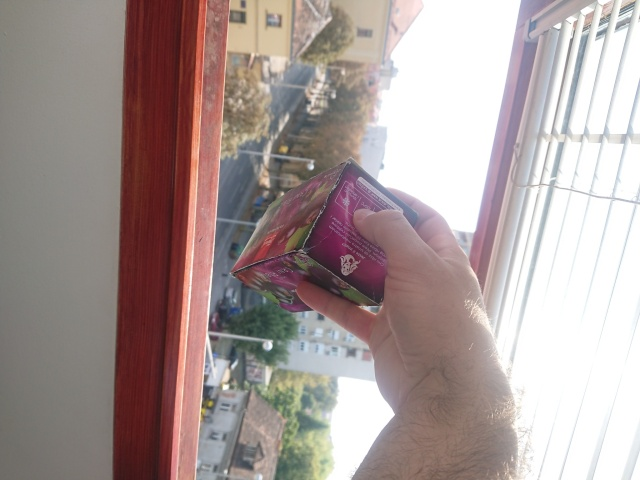Franck Black Currant Tea 60g: (228, 154, 423, 315)
